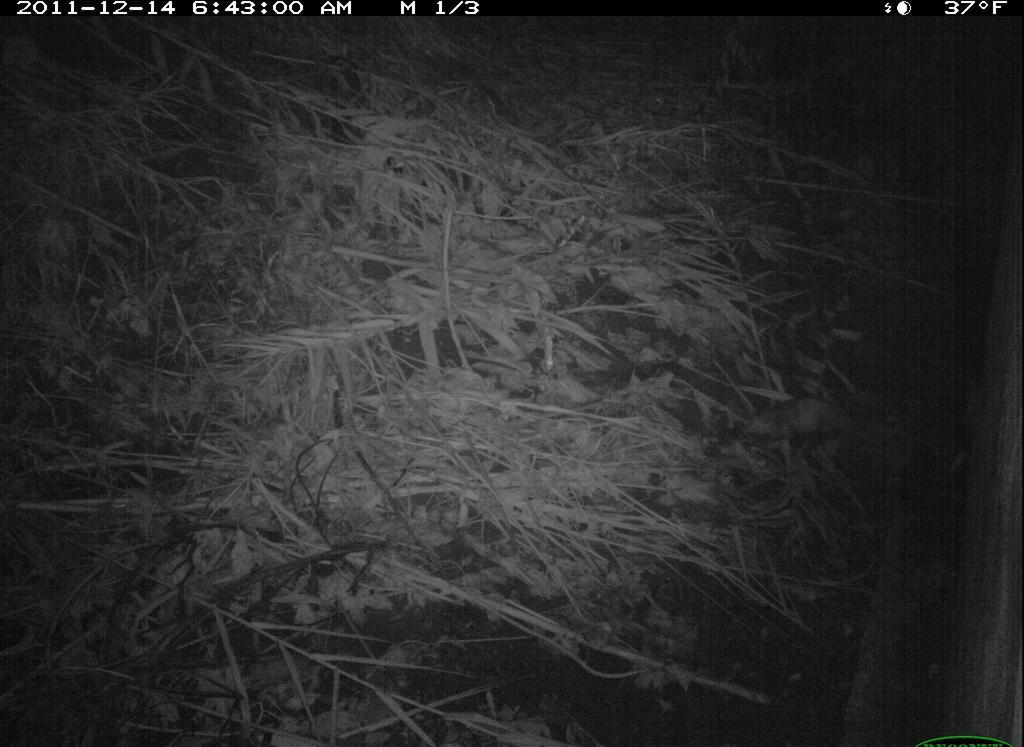opossum: (724, 390, 872, 447)
